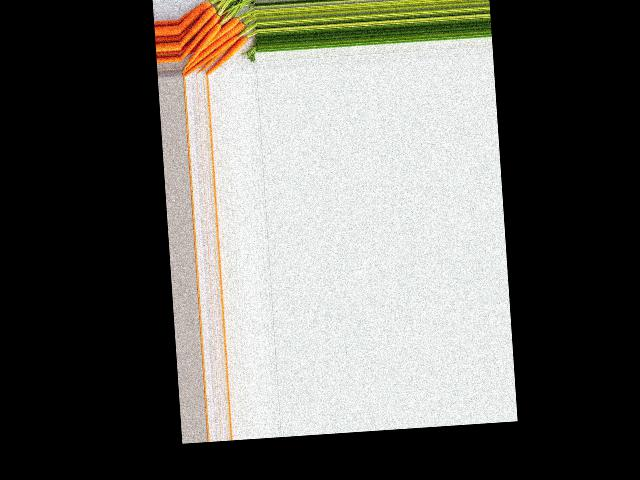carrot: (176, 0, 213, 28)
